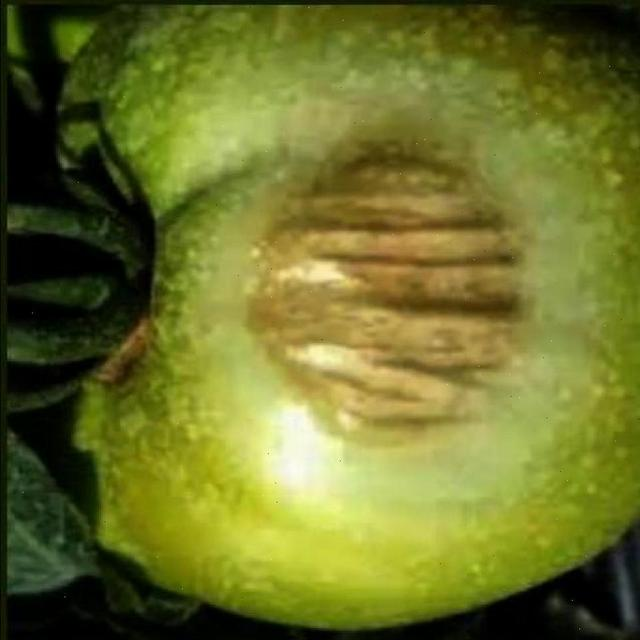Sunscald Fruit: (137, 77, 344, 312)
